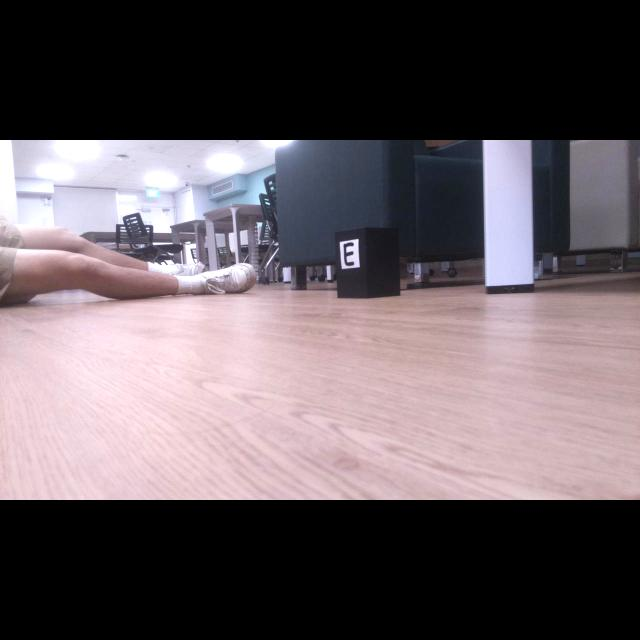E: (343, 243, 354, 266)
